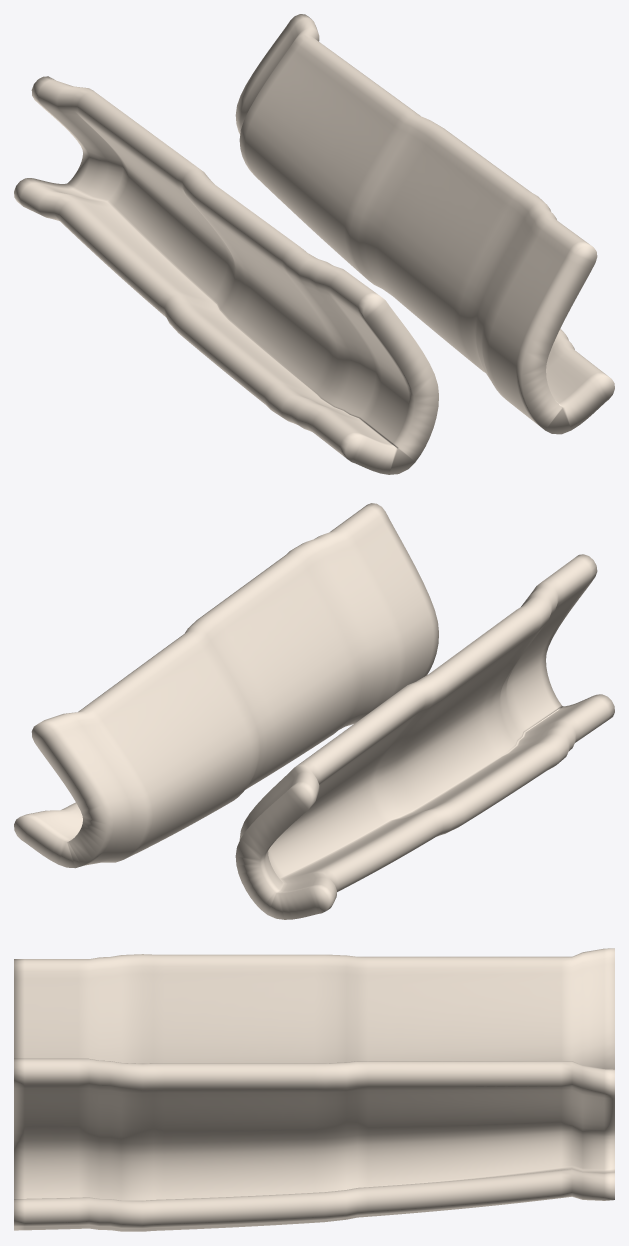
File: conchae_s120d.glb
3 views of the same model, one above another, from view 1: azimuth 30°, elevation 25°; view 2: azimuth 150°, elevation 25°; view 3: azimuth 270°, elevation 25° (orthographic). The views are drawn at different scales.
Visible parts, largest first — view 1: Middle nasal concha.l, Middle nasal concha.r; view 2: Middle nasal concha.l, Middle nasal concha.r; view 3: Middle nasal concha.l, Middle nasal concha.r.
Boxes of the visible parts, x1,y1,x2,y2 form: Middle nasal concha.l: [235, 14, 614, 434]; Middle nasal concha.r: [14, 76, 438, 474]; Middle nasal concha.l: [14, 503, 438, 868]; Middle nasal concha.r: [235, 554, 614, 919]; Middle nasal concha.l: [14, 1058, 614, 1231]; Middle nasal concha.r: [14, 948, 614, 1069].
Size of the model in its own units: 0.0165 by 0.00915 by 0.028.
